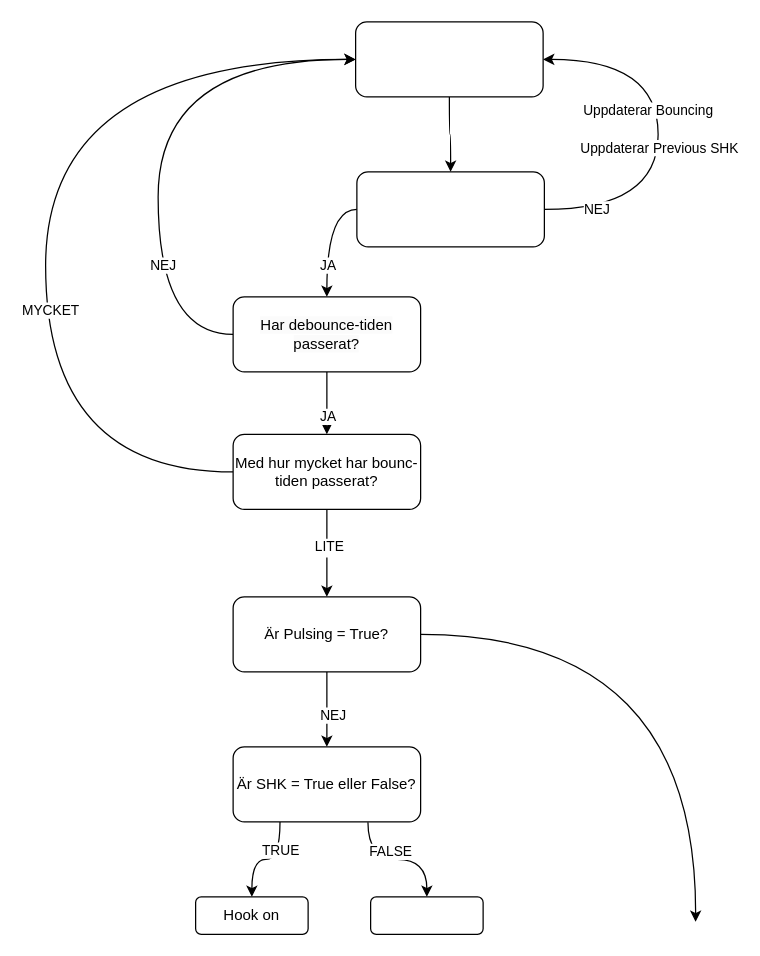
Image size: 760x956. Some labels were removed from this diagram. Each missing label, with the centre of its shape:
Hook off: point (426, 915)
Nytt värde av SHK Avläses från linjen: point (448, 59)
Är SHK = PreviousSHK ?: point (450, 209)
